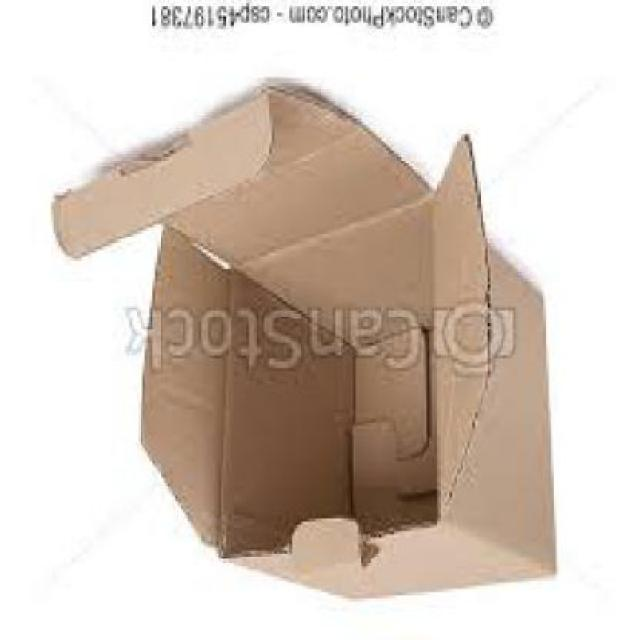CARDBOARD: (56, 86, 558, 605)
